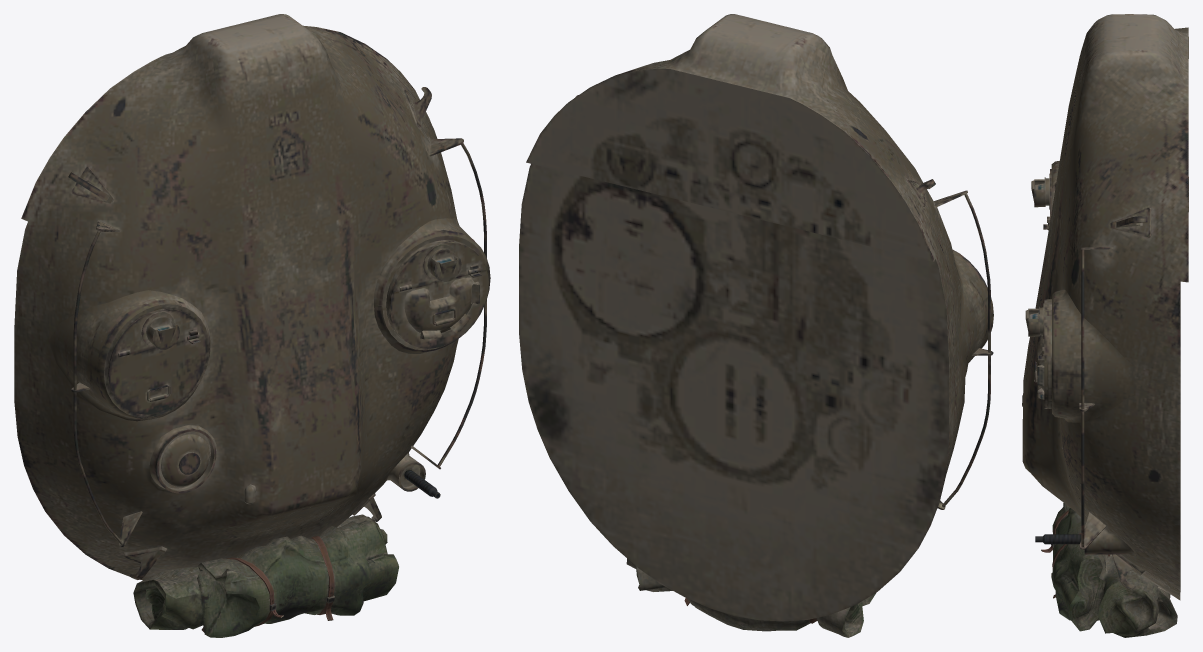
Rendered from Turret_01.glb.
3 renders of one model, left to right at view 1: azimuth 30°, elevation 25°; view 2: azimuth 150°, elevation 25°; view 3: azimuth 270°, elevation 25°, orthographic. The views are drawn at different scales.
Visible parts, largest first — view 1: set_0_group_0; view 2: set_0_group_0; view 3: set_0_group_0.
Boxes of the visible parts, left/top/right/bottom form: set_0_group_0: left=14, top=14, right=490, bottom=637; set_0_group_0: left=519, top=14, right=993, bottom=637; set_0_group_0: left=1022, top=14, right=1188, bottom=637.
Size of the model in its own units: 2.62 by 3.47 by 0.9133.
1 material, 1 textured.
